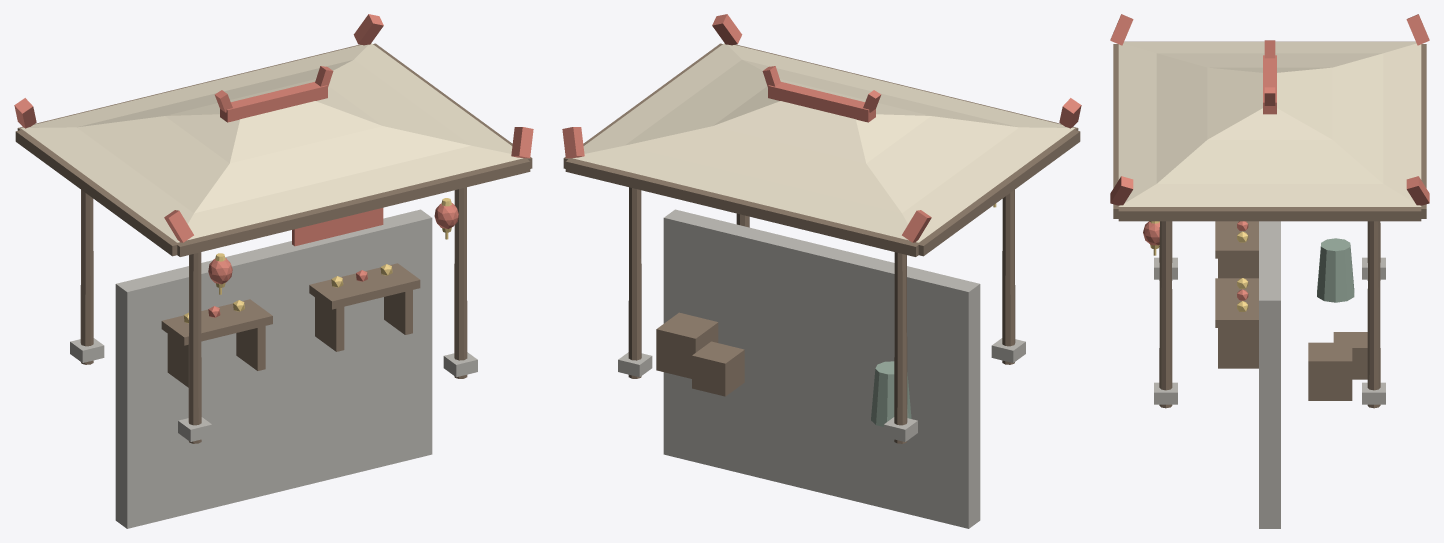
File: SM_Building_Market.fbx
3 renders of one model, left to right at view 1: azimuth 30°, elevation 25°; view 2: azimuth 150°, elevation 25°; view 3: azimuth 270°, elevation 25°, orthographic. The views are drawn at different scales.
Visible parts, largest first — view 1: Market; view 2: Market; view 3: Market.
Boxes of the visible parts, <box> form: Market: <box>14,14,533,528</box>; Market: <box>562,14,1081,528</box>; Market: <box>1110,14,1429,528</box>.
Size of the model in its own units: 3.71 by 3.96 by 2.92.
